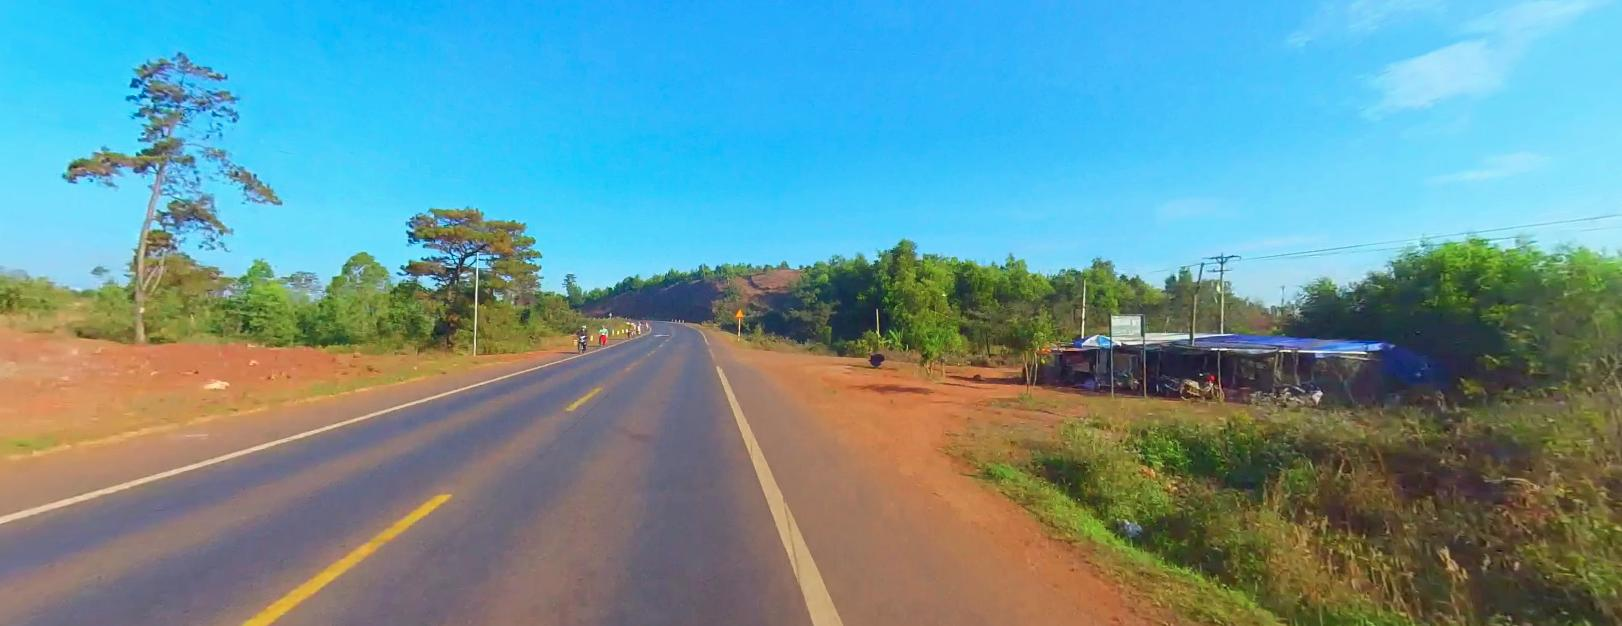Nguy hiem: (734, 307, 744, 317)
